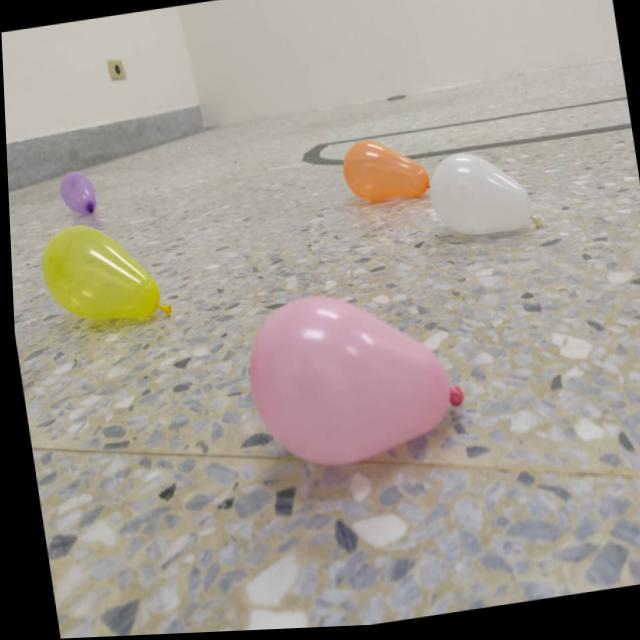other: (234, 278, 470, 479), (33, 212, 172, 337), (425, 146, 544, 250), (338, 134, 429, 211), (55, 167, 97, 220)
